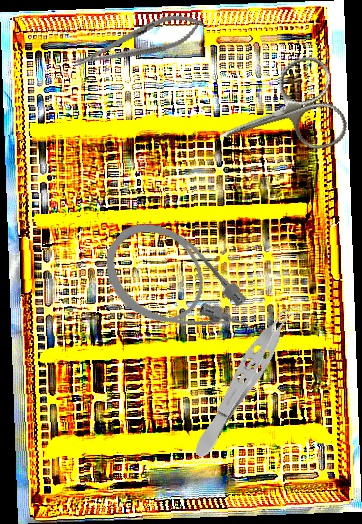Cannula: (87, 204, 273, 377)
Iris Scissors: (203, 50, 353, 181)
Needle Holder: (68, 5, 207, 80)
Tissue Forceps: (186, 293, 308, 465)
